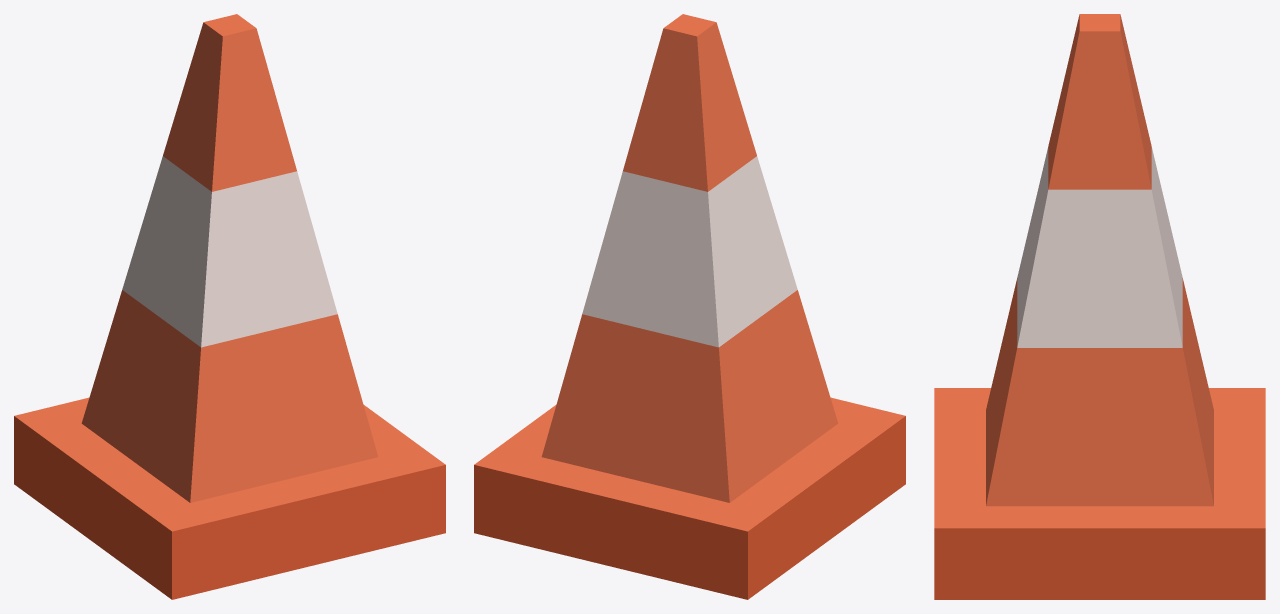
The picture shows the model from 3 angles, left to right: view 1: azimuth 30°, elevation 25°; view 2: azimuth 150°, elevation 25°; view 3: azimuth 270°, elevation 25°; orthographic projection. The views are drawn at different scales.
Visible parts, largest first — view 1: Cone; view 2: Cone; view 3: Cone.
Part boxes in pixels (x1,y1,x2,y2): Cone: [14, 14, 445, 599]; Cone: [474, 14, 905, 599]; Cone: [934, 14, 1265, 599].
Size of the model in its own units: 42.28 by 71.35 by 42.28.
